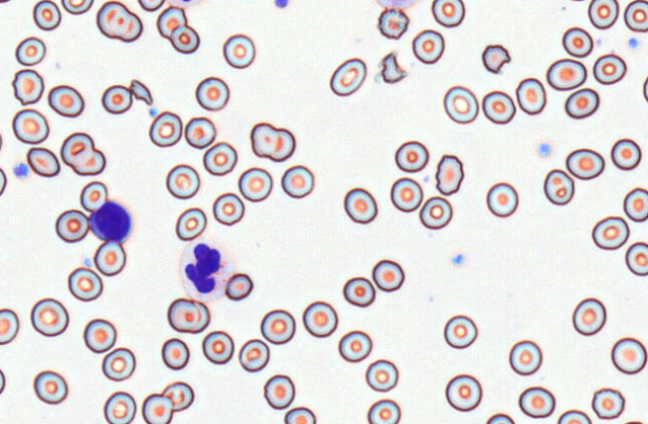GRAN: (180, 235, 236, 302)
LYM: (90, 198, 135, 246)
PLT: (11, 162, 29, 180), (537, 142, 551, 159), (271, 0, 290, 12), (628, 35, 641, 50)
RBC: (60, 131, 105, 175), (96, 0, 143, 42), (250, 122, 295, 162), (167, 297, 210, 333), (30, 297, 69, 336), (329, 57, 366, 96), (445, 373, 482, 411), (11, 108, 49, 144), (443, 85, 478, 124), (302, 300, 338, 337), (611, 337, 647, 374), (591, 215, 629, 250), (572, 297, 606, 335), (546, 58, 586, 90), (165, 163, 200, 199), (67, 266, 103, 301), (260, 308, 295, 344), (148, 110, 182, 147), (343, 187, 377, 224), (565, 148, 604, 180), (33, 369, 68, 404), (508, 339, 542, 375), (11, 68, 44, 105), (47, 84, 84, 117), (202, 141, 237, 175), (238, 167, 272, 202), (195, 76, 229, 111), (443, 314, 477, 349), (434, 154, 463, 195), (93, 240, 126, 276), (390, 176, 423, 212), (518, 386, 555, 418), (515, 77, 546, 115), (55, 208, 89, 242), (101, 347, 135, 381), (481, 90, 515, 124), (83, 318, 116, 353), (411, 29, 444, 64), (222, 33, 255, 68), (543, 168, 574, 205), (365, 358, 398, 392), (419, 195, 452, 229), (281, 164, 314, 198), (263, 374, 295, 409), (564, 87, 599, 119), (486, 182, 518, 217), (103, 391, 136, 424), (371, 259, 404, 292), (338, 330, 372, 362), (202, 330, 234, 364), (592, 53, 626, 85), (394, 140, 428, 172), (591, 387, 625, 419), (212, 192, 244, 225), (26, 146, 60, 177), (175, 207, 206, 241), (238, 338, 269, 372), (184, 116, 216, 148), (377, 7, 409, 39), (156, 5, 187, 38), (342, 276, 375, 307), (141, 393, 173, 424), (610, 138, 641, 170), (161, 381, 194, 411), (562, 26, 593, 57), (101, 84, 132, 114), (15, 36, 46, 66), (79, 180, 108, 212), (587, 0, 619, 29), (161, 337, 189, 370), (431, 0, 465, 27), (366, 398, 401, 424), (169, 24, 200, 53), (623, 187, 648, 222), (32, 0, 61, 30), (224, 272, 253, 301), (625, 241, 648, 276), (623, 0, 648, 32), (0, 307, 19, 345), (283, 406, 316, 424), (556, 409, 592, 424), (61, 0, 94, 14), (374, 0, 417, 10), (484, 412, 515, 424), (166, 0, 205, 8), (137, 0, 165, 11), (0, 165, 7, 196), (642, 72, 648, 103), (0, 365, 6, 395), (616, 420, 647, 424), (319, 421, 351, 424), (0, 127, 3, 158), (563, 0, 591, 1)
Schistocyte: (381, 51, 409, 85), (483, 43, 512, 74), (128, 79, 154, 105)
